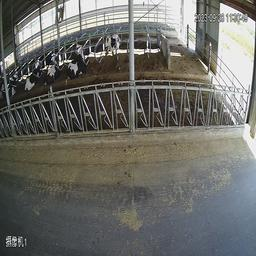cow: (68, 43, 97, 82), (21, 54, 43, 95), (44, 47, 65, 87), (101, 29, 125, 57), (5, 63, 21, 94)
